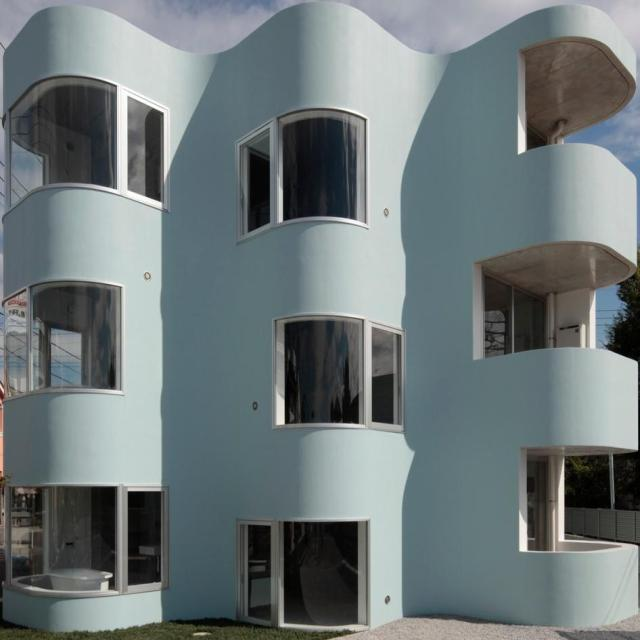door: (241, 521, 286, 630)
window: (0, 78, 167, 221), (6, 485, 166, 599), (239, 113, 368, 241), (272, 318, 402, 434), (2, 283, 124, 400), (284, 521, 358, 627), (482, 276, 547, 362), (528, 458, 547, 553), (527, 126, 543, 156)
